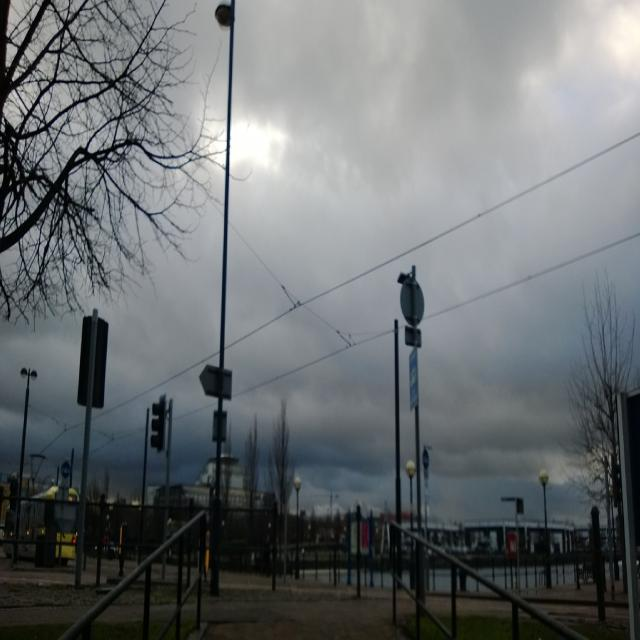off traffic light: (150, 394, 167, 456)
